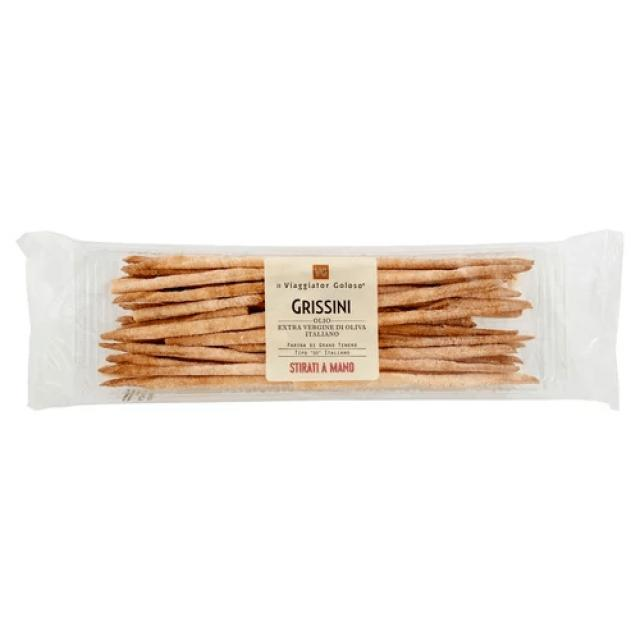bread: (17, 228, 626, 413)
